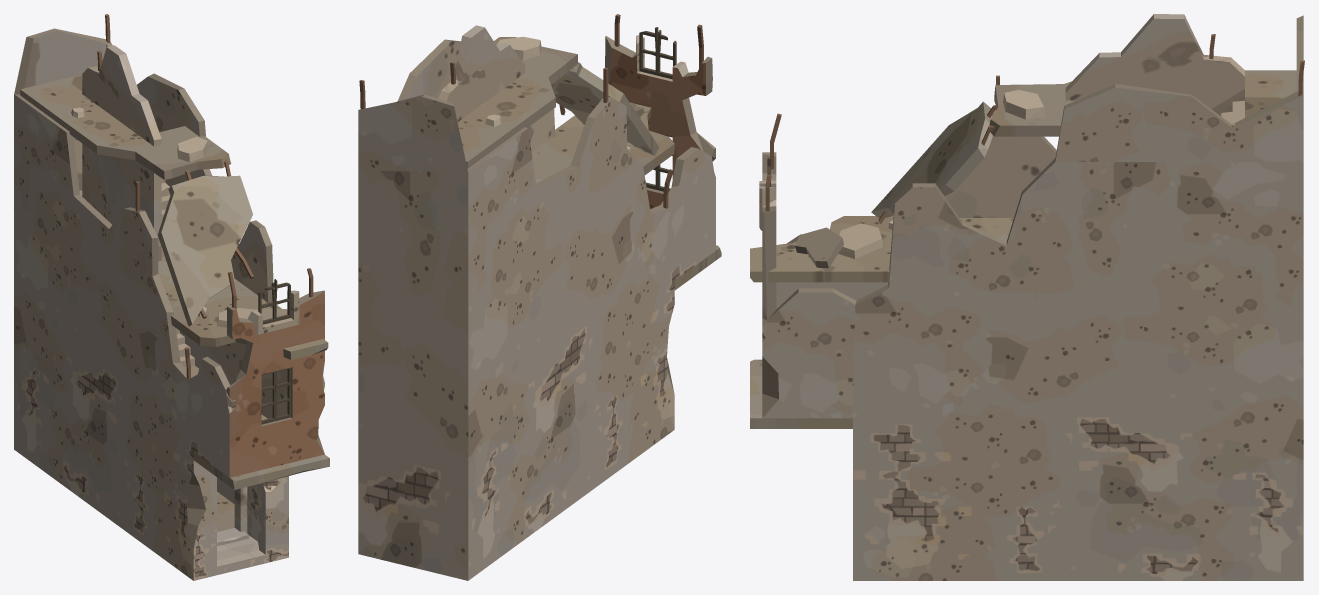
Rendered from SM_Bld_Shop_02_Destroyed.fbx.
3 renders of one model, left to right at view 1: azimuth 30°, elevation 25°; view 2: azimuth 150°, elevation 25°; view 3: azimuth 270°, elevation 25°, orthographic. The views are drawn at different scales.
Parts seen in each view (by area): view 1: SM_Bld_Shop_02_Destroyed; view 2: SM_Bld_Shop_02_Destroyed; view 3: SM_Bld_Shop_02_Destroyed.
Part boxes in pixels (x1=…): SM_Bld_Shop_02_Destroyed: x1=14, y1=14, x2=329, y2=580; SM_Bld_Shop_02_Destroyed: x1=358, y1=14, x2=721, y2=580; SM_Bld_Shop_02_Destroyed: x1=750, y1=14, x2=1304, y2=580.
Bounding box in the file's own units: 325 × 1314 × 1232.
